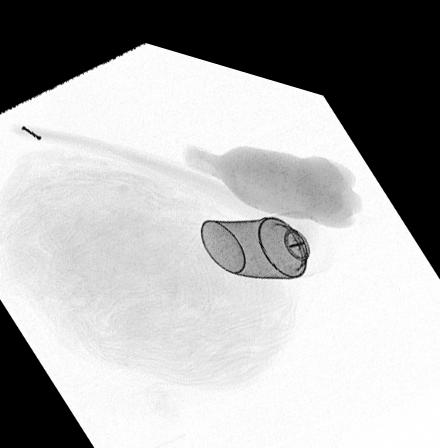Sprayer: (198, 199, 334, 261)
